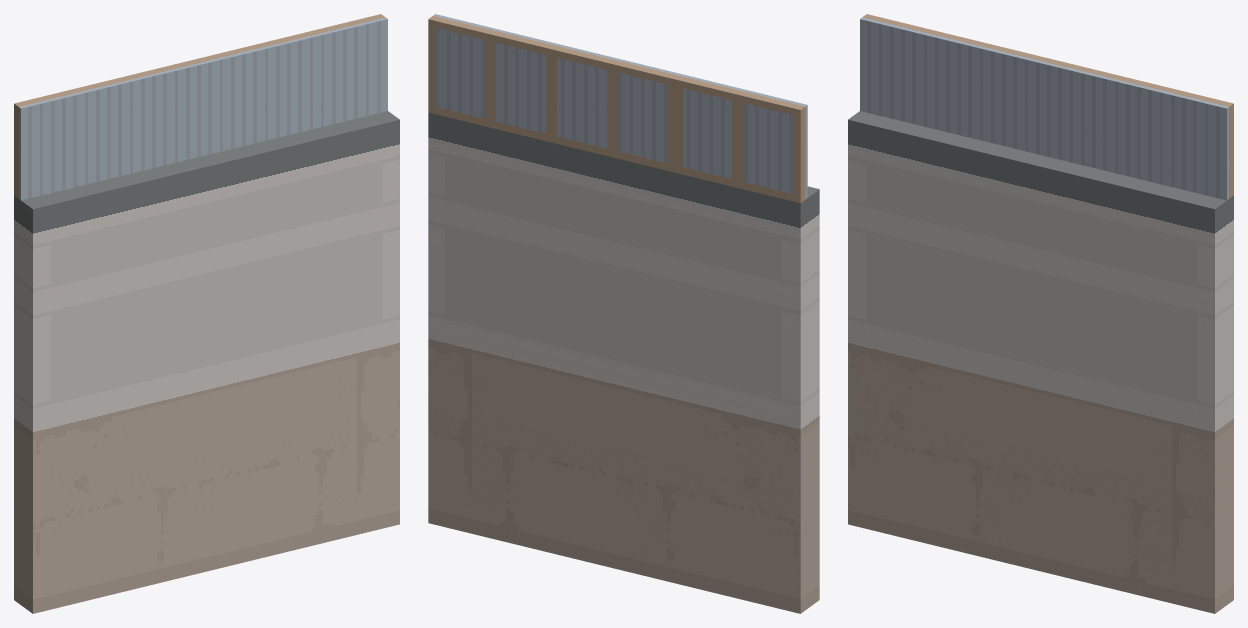
The model's file is 04f3_White_Wall.glb.
3 views of the same model, side by side, from view 1: azimuth 30°, elevation 25°; view 2: azimuth 150°, elevation 25°; view 3: azimuth 330°, elevation 25° (orthographic).
Parts seen in each view (by area): view 1: part_0; view 2: part_0; view 3: part_0.
Part boxes in pixels (x1=…): part_0: x1=14, y1=14, x2=399, y2=613; part_0: x1=428, y1=14, x2=819, y2=613; part_0: x1=848, y1=14, x2=1233, y2=613.
Bounding box in the file's own units: 2.23 × 2.88 × 0.1993.
1 material, 1 textured.
